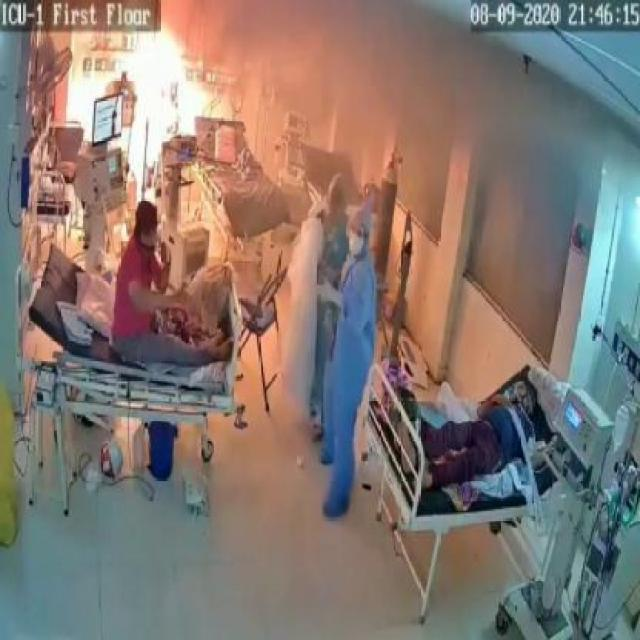fire: (102, 29, 212, 169)
smoke: (222, 2, 604, 193)
